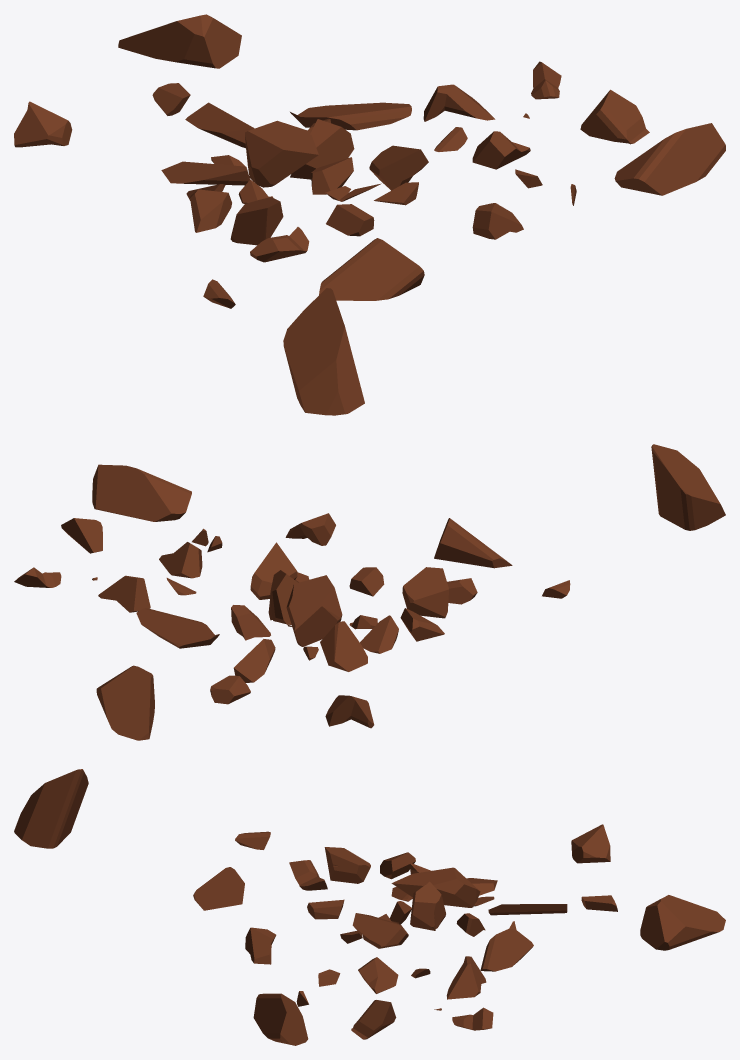
File: Tuh_pil2.fbx
3 renders of one model, top to bottom at view 1: azimuth 30°, elevation 25°; view 2: azimuth 150°, elevation 25°; view 3: azimuth 270°, elevation 25°, orthographic. The views are drawn at different scales.
Visible parts, largest first — view 1: Cube.001_cell.024, Cube.001_cell.021, Cube.001_cell.005, Cube.001_cell.020, Cube.001_cell.032, Cube.001_cell.022, Cube.001_cell.035, Cube.001_cell.027, Cube.001_cell.029, Cube.001_cell.004, Cube.001_cell.016, Cube.001_cell.011 (+10 smaller); view 2: Cube.001_cell.021, Cube.001_cell.024, Cube.001_cell.005, Cube.001_cell.032, Cube.001_cell.035, Cube.001_cell.020, Cube.001_cell.029, Cube.001_cell.016, Cube.001_cell.011, Cube.001_cell.031, Cube.001_cell.027, Cube.001_cell.030 (+11 smaller); view 3: Cube.001_cell.024, Cube.001_cell.005, Cube.001_cell.021, Cube.001_cell.032, Cube.001_cell.035, Cube.001_cell.020, Cube.001_cell.004, Cube.001_cell.011, Cube.001_cell.029, Cube.001_cell.027, Cube.001_cell.022, Cube.001_cell.031 (+9 smaller).
Boxes of the visible parts, x1,y1,x2,y2 form: Cube.001_cell.024: (283,288,364,415); Cube.001_cell.021: (614,123,725,195); Cube.001_cell.005: (118,14,241,68); Cube.001_cell.020: (319,238,424,300); Cube.001_cell.032: (245,120,318,187); Cube.001_cell.022: (580,89,649,144); Cube.001_cell.035: (290,102,411,130); Cube.001_cell.027: (14,101,72,147); Cube.001_cell.029: (230,197,283,245); Cube.001_cell.004: (290,119,354,179); Cube.001_cell.016: (161,161,249,185); Cube.001_cell.011: (369,145,428,190); Cube.001_cell.021: (92,464,191,521); Cube.001_cell.024: (651,444,725,530); Cube.001_cell.005: (96,665,154,740); Cube.001_cell.032: (286,575,342,646); Cube.001_cell.035: (136,608,219,648); Cube.001_cell.020: (434,518,512,568); Cube.001_cell.029: (402,567,448,618); Cube.001_cell.016: (320,621,367,671); Cube.001_cell.011: (250,542,297,599); Cube.001_cell.031: (98,575,150,612); Cube.001_cell.027: (325,695,374,728); Cube.001_cell.030: (159,542,202,578); Cube.001_cell.024: (14,769,88,848); Cube.001_cell.005: (640,895,725,950); Cube.001_cell.021: (253,993,308,1045); Cube.001_cell.032: (391,867,480,907); Cube.001_cell.035: (480,921,533,971); Cube.001_cell.020: (193,867,244,910); Cube.001_cell.004: (410,881,445,930); Cube.001_cell.011: (352,913,408,948); Cube.001_cell.029: (324,847,370,883); Cube.001_cell.027: (571,824,610,863); Cube.001_cell.022: (351,1000,396,1039); Cube.001_cell.031: (446,956,486,999).
Bounding box in the file's own units: 1382 × 253 × 1840.
